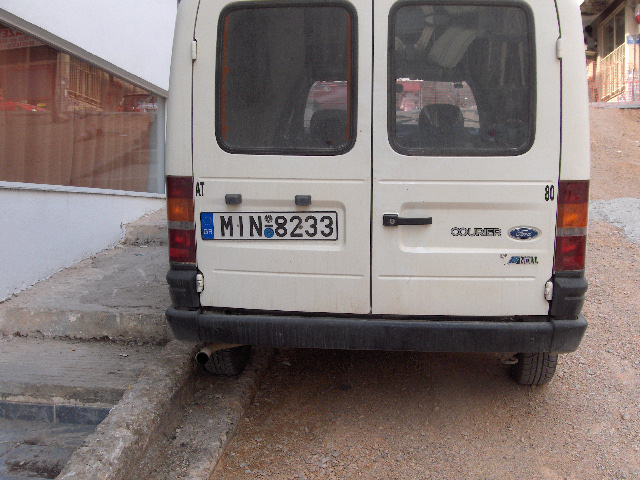licenseplate: (199, 210, 338, 241)
